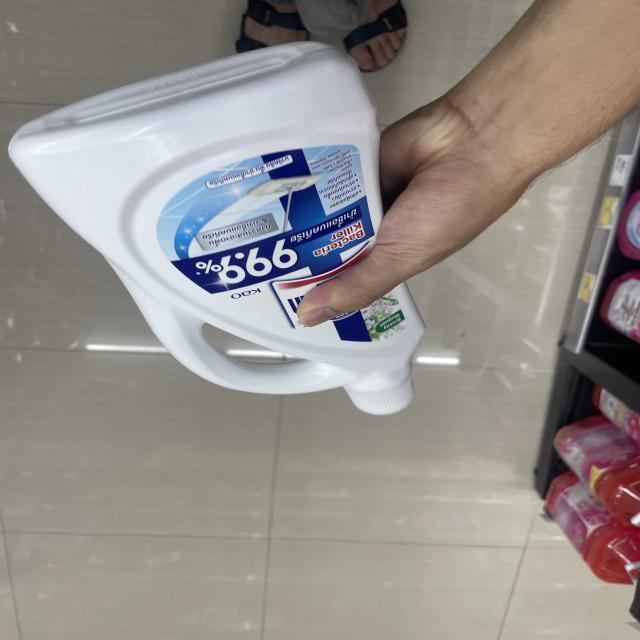HDPE Plastic: (6, 40, 452, 414)
